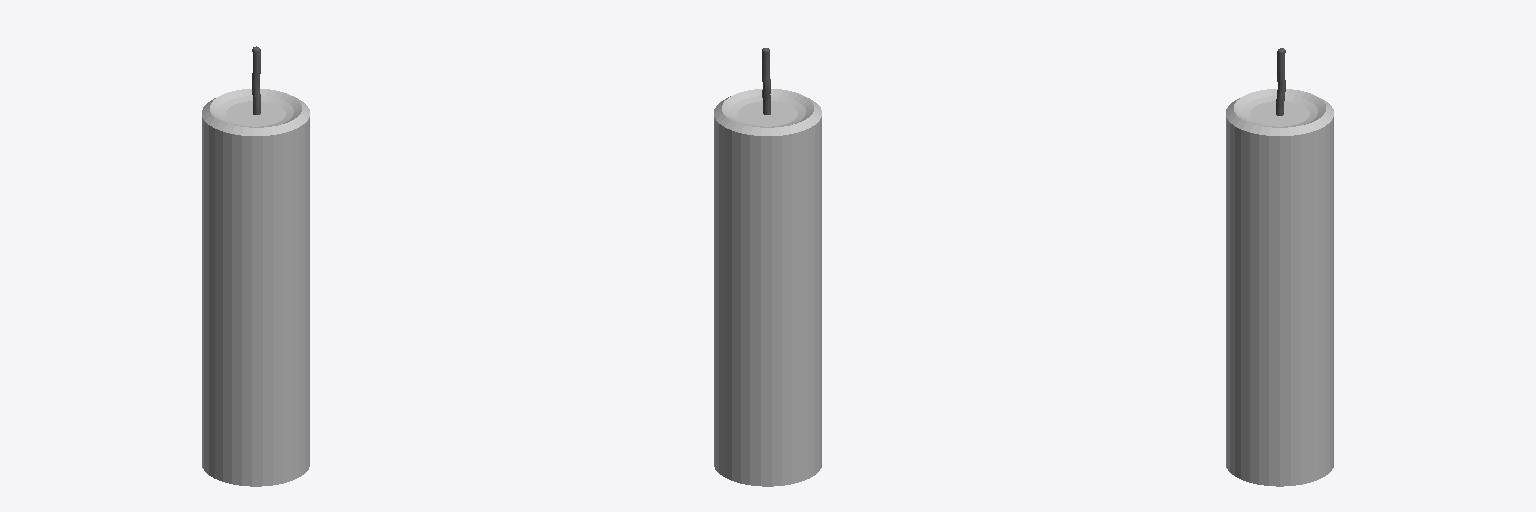
File: proper_candle.obj
3 renders of one model, left to right at view 1: azimuth 30°, elevation 25°; view 2: azimuth 150°, elevation 25°; view 3: azimuth 270°, elevation 25°, orthographic.
Visible parts, largest first — view 1: Candle; view 2: Candle; view 3: Candle.
Part boxes in pixels (x1,y1,x2,y2): Candle: (202, 46, 309, 486); Candle: (714, 48, 821, 486); Candle: (1226, 48, 1333, 486).
Bounding box in the file's own units: 0.3 × 1.26 × 0.3.